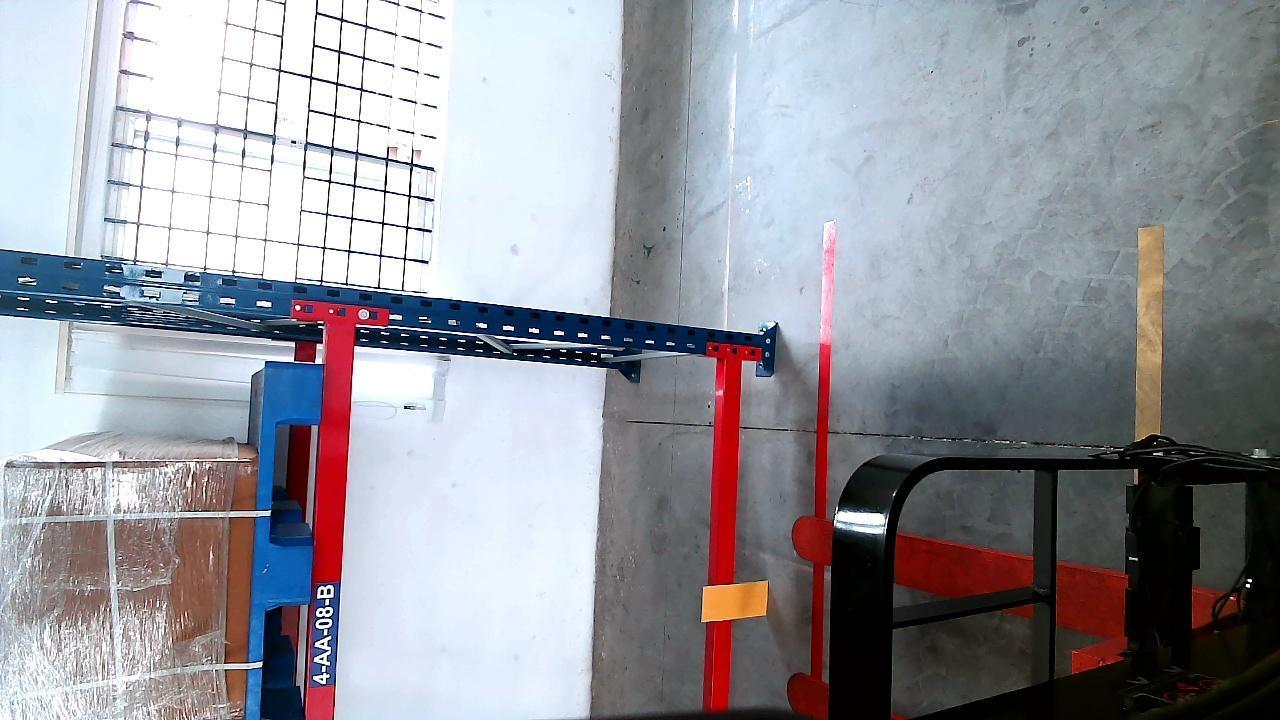red_line: (808, 217, 836, 678)
yellow_line: (1137, 221, 1163, 441)
